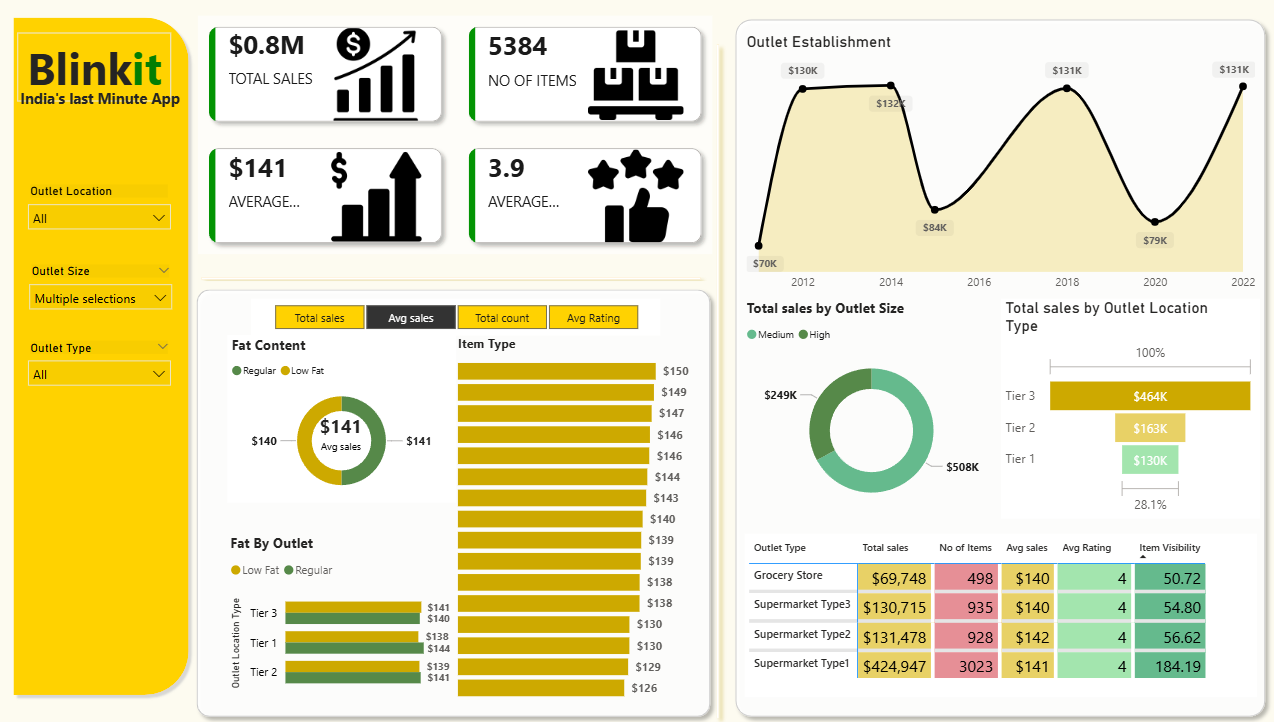

The page's visual inventory and layout, read from the dashboard file:
{"tool":"powerbi","page":{"name":"Page 1","canvas":[1400,800],"ordinal":0},"visuals":[{"type":"shape","box":[12,22.5,204,750],"z":0},{"type":"textbox","box":[22.5,46.5,168.1,75],"z":1000},{"type":"textbox","box":[16.5,102.1,193.6,37.5],"z":2000},{"type":"cardVisual","fields":{"Data":["BlinkIT Grocery Data.Total sales","BlinkIT Grocery Data.Total count","BlinkIT Grocery Data.Avg sales","BlinkIT Grocery Data.Avg Rating"]},"box":[214.7,23.1,569.3,270.4],"z":3000},{"type":"shape","box":[209.2,316.6,576.1,482.3],"z":4000},{"type":"donutChart","title":"Fat Content","fields":{"Y":["BlinkIT Grocery Data.Avg sales"],"Category":["BlinkIT Grocery Data.Item Fat Content"]},"box":[251.2,375,248.8,182.5],"z":5000},{"type":"slicer","fields":{"Values":["metrics.metrics"]},"box":[277.5,335,445,40],"z":6000},{"type":"cardVisual","fields":{"Data":["BlinkIT Grocery Data.Avg sales"]},"box":[323.4,442.9,103.3,76.1],"z":7000},{"type":"clusteredBarChart","title":"Fat By Outlet","fields":{"Category":["BlinkIT Grocery Data.Outlet Location Type"],"Series":["BlinkIT Grocery Data.Item Fat Content"],"Y":["BlinkIT Grocery Data.Avg sales"]},"box":[250,591,248.6,182.1],"z":7001},{"type":"barChart","title":"Item Type","fields":{"Category":["BlinkIT Grocery Data.Item Type"],"Y":["BlinkIT Grocery Data.Avg sales"]},"box":[497.3,375,264.9,398.1],"z":7002},{"type":"shape","box":[214.7,304.3,559.8,12.2],"z":7003},{"type":"shape","box":[774.5,50.3,20.4,750],"z":7004},{"type":"shape","box":[794.8,23.1,593.8,775.8],"z":7005},{"type":"lineChart","title":"Outlet Establishment","fields":{"Y":["BlinkIT Grocery Data.Total sales"],"Category":["BlinkIT Grocery Data.Outlet Establishment Year"]},"box":[811.1,46.2,562.5,289.4],"z":7006},{"type":"donutChart","fields":{"Y":["BlinkIT Grocery Data.Total sales"],"Category":["BlinkIT Grocery Data.Outlet Size"]},"box":[811.1,335.6,281.3,239.1],"z":7007},{"type":"funnel","fields":{"Category":["BlinkIT Grocery Data.Outlet Location Type"],"Y":["BlinkIT Grocery Data.Total sales"]},"box":[1092.4,335.6,281.3,239.1],"z":7008},{"type":"pivotTable","fields":{"Rows":["BlinkIT Grocery Data.Outlet Type"],"Values":["BlinkIT Grocery Data.Total sales","BlinkIT Grocery Data.Total count","BlinkIT Grocery Data.Avg sales","BlinkIT Grocery Data.Avg Rating","Sum(BlinkIT Grocery Data.Item Visibility)"]},"box":[813.9,591,557.1,178],"z":7009},{"type":"slicer","fields":{"Values":["BlinkIT Grocery Data.Outlet Location Type"]},"box":[24.5,206.5,175.3,70.7],"z":7010},{"type":"slicer","fields":{"Values":["BlinkIT Grocery Data.Outlet Size"]},"box":[25.8,293.5,175.3,70.7],"z":7011},{"type":"slicer","fields":{"Values":["BlinkIT Grocery Data.Item Type"]},"box":[24.5,376.4,175.3,70.7],"z":7012}]}

Visuals, with their boxes in screenshot pixels (x1, y1, x2, y2), scaled from the page's 1400x800 canvas onto the 1274x722 screenshot:
shape: <bbox>11, 20, 197, 697</bbox>
textbox: <bbox>20, 42, 173, 110</bbox>
textbox: <bbox>15, 92, 191, 126</bbox>
cardVisual - BlinkIT Grocery Data.Total sales x BlinkIT Grocery Data.Total count: <bbox>195, 21, 713, 265</bbox>
shape: <bbox>190, 286, 715, 721</bbox>
"Fat Content" donutChart: <bbox>229, 338, 455, 503</bbox>
slicer - metrics.metrics: <bbox>253, 302, 657, 338</bbox>
cardVisual - BlinkIT Grocery Data.Avg sales: <bbox>294, 400, 388, 468</bbox>
"Fat By Outlet" clusteredBarChart: <bbox>228, 533, 454, 698</bbox>
"Item Type" barChart: <bbox>453, 338, 694, 698</bbox>
shape: <bbox>195, 275, 705, 286</bbox>
shape: <bbox>705, 45, 723, 721</bbox>
shape: <bbox>723, 21, 1264, 721</bbox>
"Outlet Establishment" lineChart: <bbox>738, 42, 1250, 303</bbox>
donutChart - BlinkIT Grocery Data.Total sales x BlinkIT Grocery Data.Outlet Size: <bbox>738, 303, 994, 519</bbox>
funnel - BlinkIT Grocery Data.Outlet Location Type x BlinkIT Grocery Data.Total sales: <bbox>994, 303, 1250, 519</bbox>
pivotTable - BlinkIT Grocery Data.Outlet Type x BlinkIT Grocery Data.Total sales: <bbox>741, 533, 1248, 694</bbox>
slicer - BlinkIT Grocery Data.Outlet Location Type: <bbox>22, 186, 182, 250</bbox>
slicer - BlinkIT Grocery Data.Outlet Size: <bbox>23, 265, 183, 329</bbox>
slicer - BlinkIT Grocery Data.Item Type: <bbox>22, 340, 182, 404</bbox>
